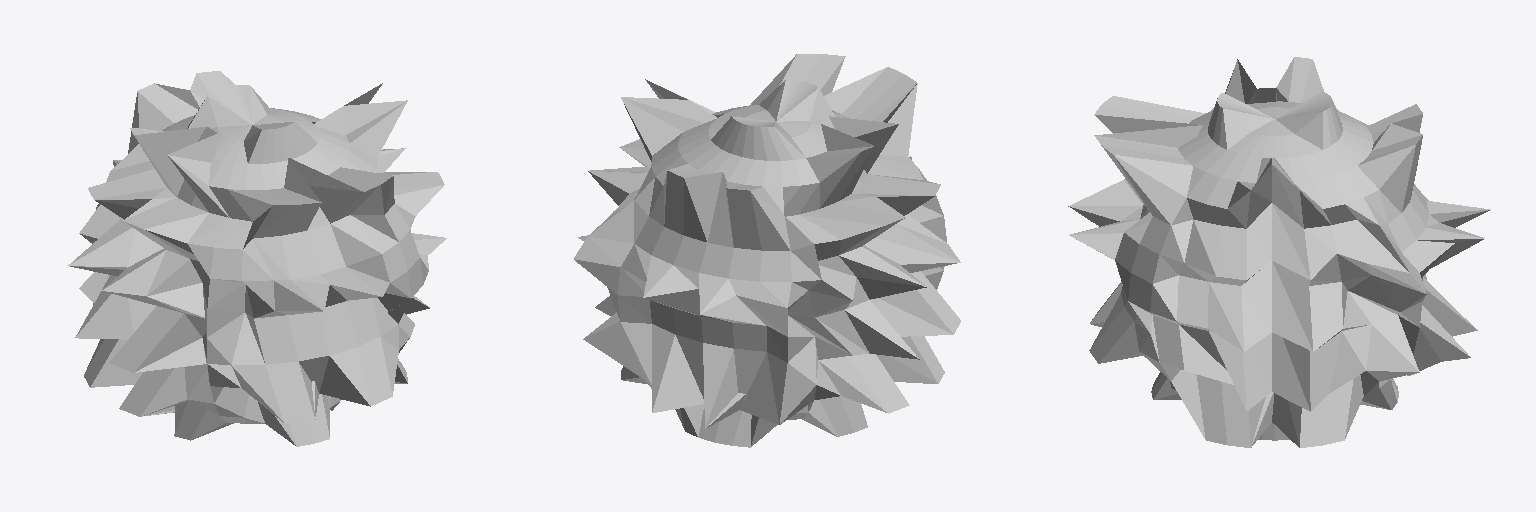
File: power_intensity.obj
3 views of the same model, side by side, from view 1: azimuth 30°, elevation 25°; view 2: azimuth 150°, elevation 25°; view 3: azimuth 270°, elevation 25° (orthographic).
Parts seen in each view (by area): view 1: Sphere; view 2: Sphere; view 3: Sphere.
Boxes of the visible parts, x1,y1,x2,y2 form: Sphere: [68, 71, 446, 446]; Sphere: [574, 54, 960, 447]; Sphere: [1068, 57, 1490, 447].
Bounding box in the file's own units: 18.13 × 15.23 × 19.14.